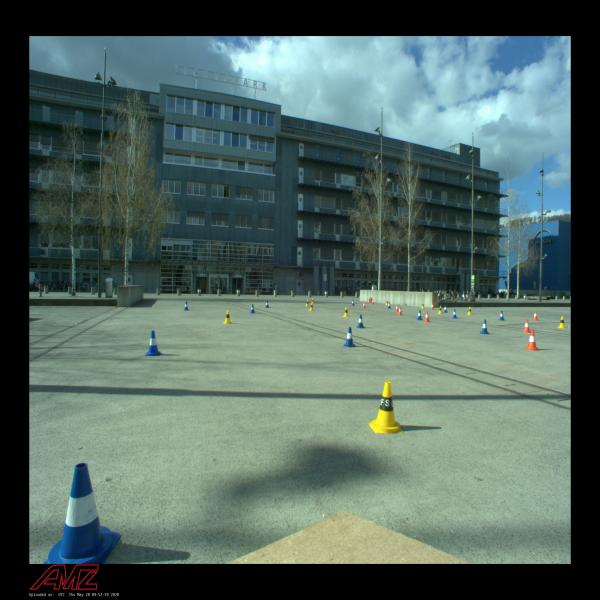blue_cone: (44, 462, 121, 564), (145, 330, 163, 357), (342, 327, 357, 347), (356, 315, 366, 328), (480, 320, 489, 334), (416, 310, 423, 320), (451, 308, 458, 318), (498, 311, 505, 320), (250, 304, 256, 314), (184, 302, 190, 310), (443, 305, 448, 313), (265, 301, 270, 308), (351, 300, 355, 306), (387, 302, 391, 308)
orange_cone: (524, 330, 540, 351), (522, 319, 531, 333), (424, 311, 430, 322), (397, 306, 403, 315), (532, 311, 538, 320), (362, 301, 367, 308), (430, 303, 435, 310), (395, 304, 399, 312), (371, 299, 374, 304)
yellow_cone: (368, 382, 403, 434), (223, 310, 232, 324), (557, 316, 567, 328), (343, 306, 349, 318), (309, 302, 314, 311), (467, 306, 472, 315), (438, 306, 442, 314), (305, 300, 310, 306), (421, 302, 425, 309), (385, 300, 389, 305), (311, 298, 314, 304)
